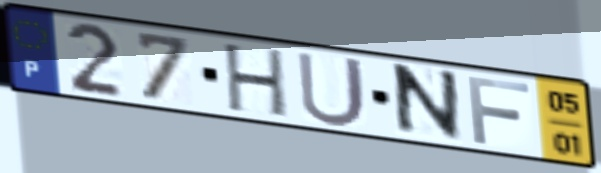2: (62, 21, 131, 101)
7: (134, 29, 194, 104)
F: (464, 74, 535, 148)
H: (222, 41, 290, 121)
N: (392, 61, 465, 145)
U: (294, 49, 370, 130)
